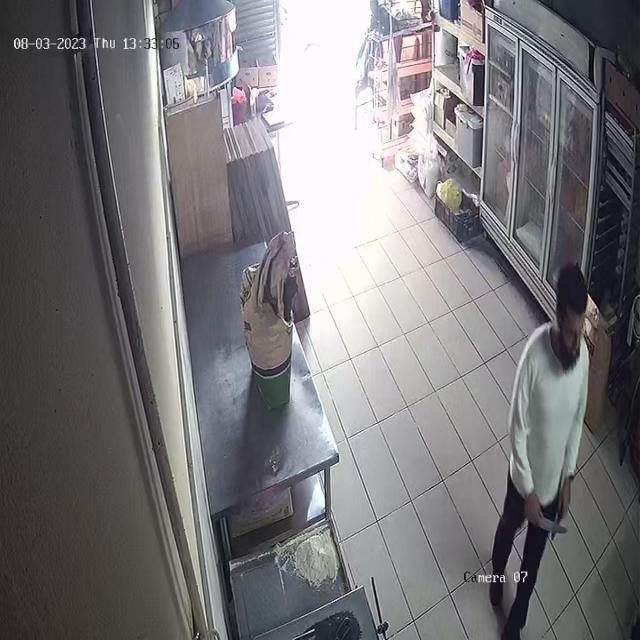Knife: (528, 508, 572, 548)
